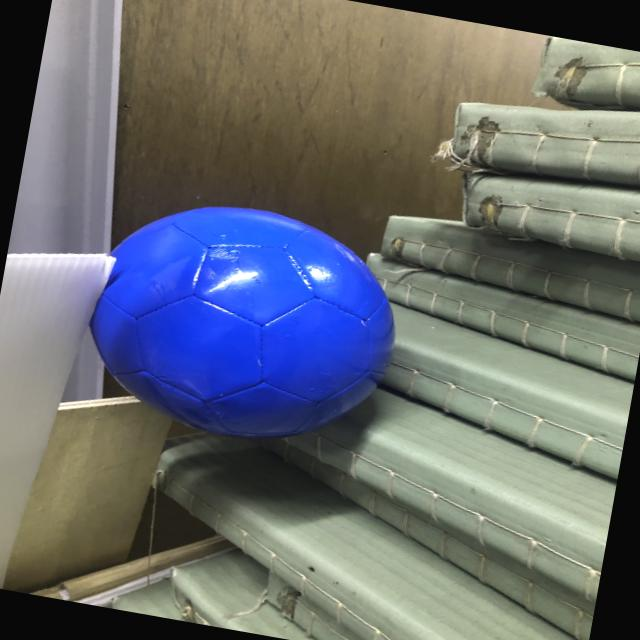blue_ball: (75, 185, 410, 460)
